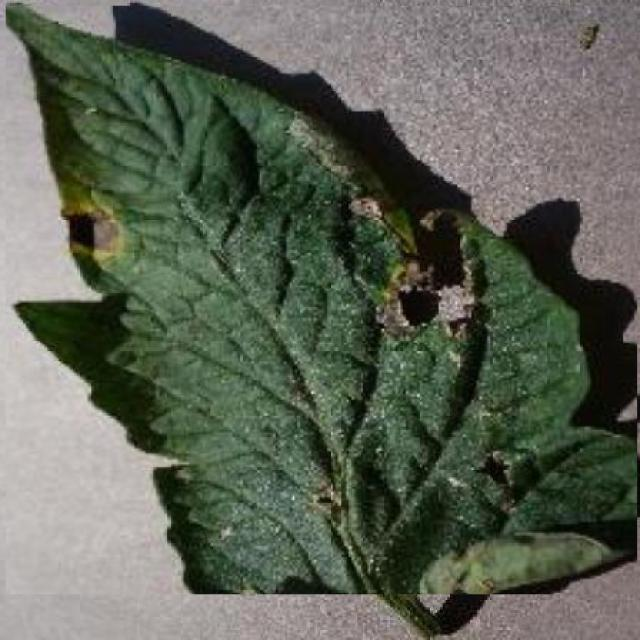Early Blight: (6, 5, 637, 595)
